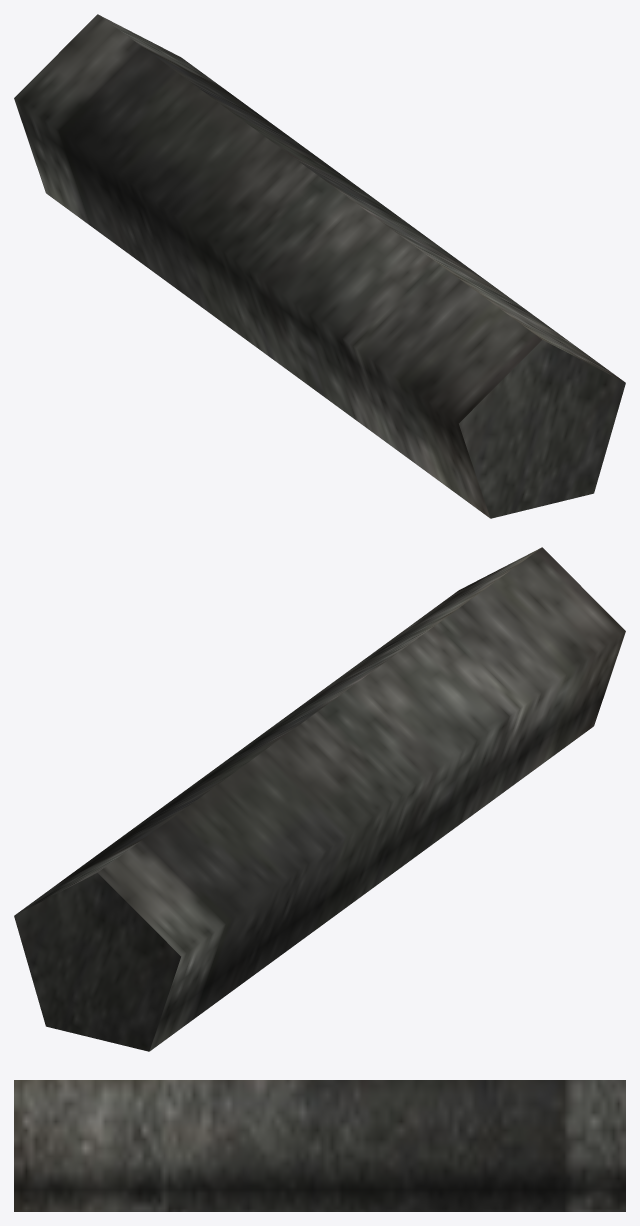
File: pir_m_hnd_tol_pestle.fbx
3 renders of one model, top to bottom at view 1: azimuth 30°, elevation 25°; view 2: azimuth 150°, elevation 25°; view 3: azimuth 270°, elevation 25°, orthographic. The views are drawn at different scales.
Visible parts, largest first — view 1: pestle; view 2: pestle; view 3: pestle.
Boxes of the visible parts, <box> form: pestle: <box>14,14,625,518</box>; pestle: <box>14,547,625,1051</box>; pestle: <box>14,1080,625,1211</box>.
Size of the model in its own units: 14.99 by 14.26 by 69.02.
1 material, 1 textured.
